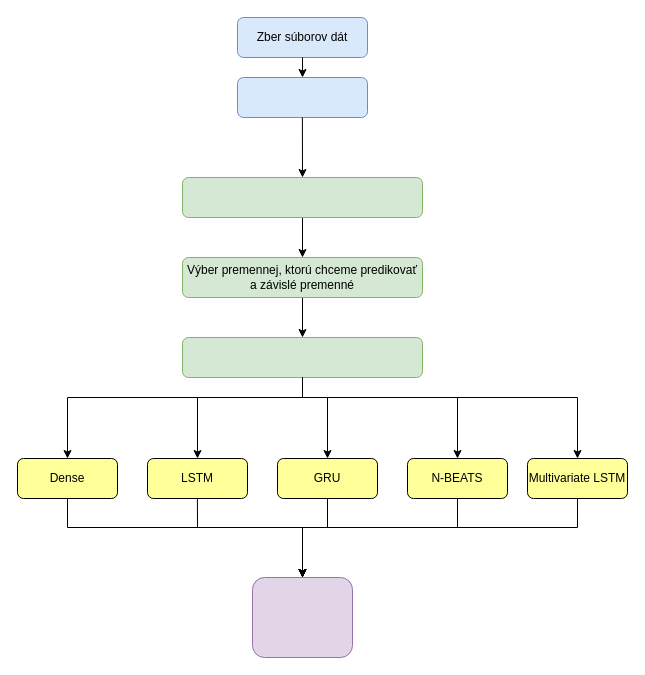
The diagram is 645 pixels wide and 675 high, and some of its shapes have lost their labels. Here are the shapes that lost their labels. From the top down, the centre of each, then its label:
At point 302,97: "Výber vhodných technológii".
At point 302,197: "Úprava súboru dát".
At point 302,357: "Príprava dát na fázu trénovania".
At point 302,617: "RMSE MSE MAE".
